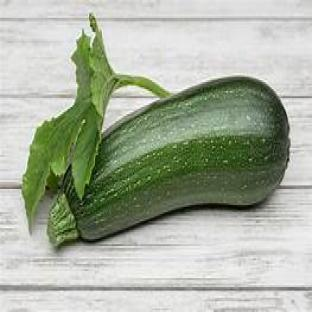Zucchini: (48, 77, 289, 246)
